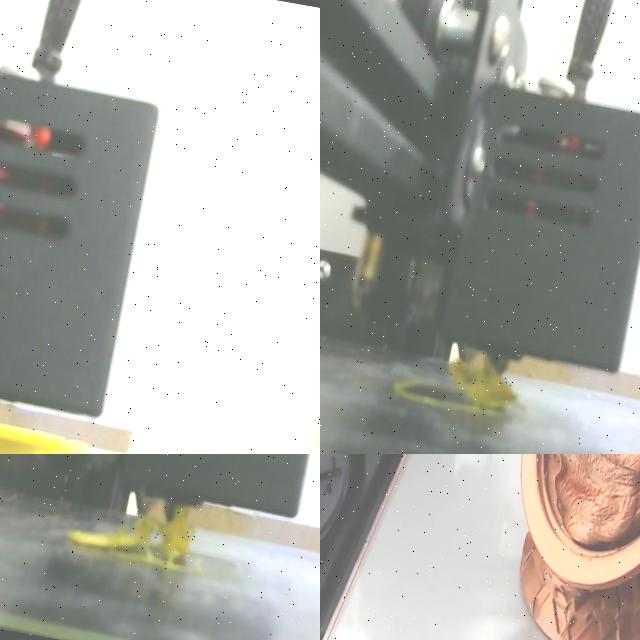spaghetti: (69, 500, 194, 568), (441, 356, 527, 425)
